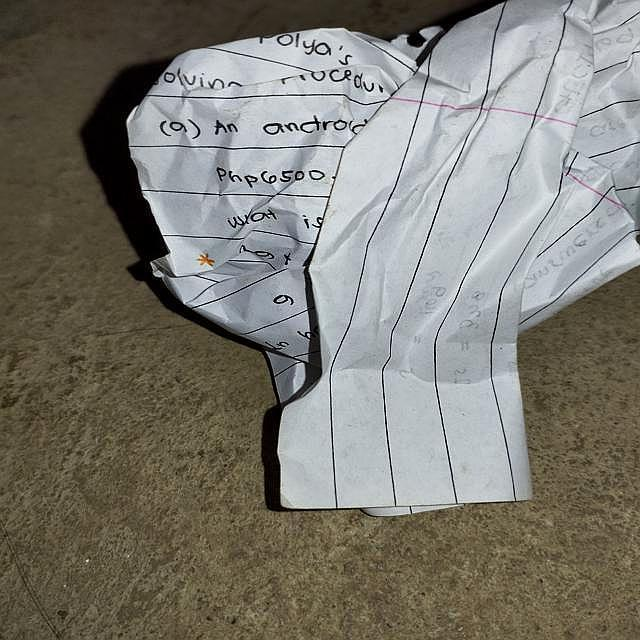Biodegradable: (127, 1, 640, 513)
